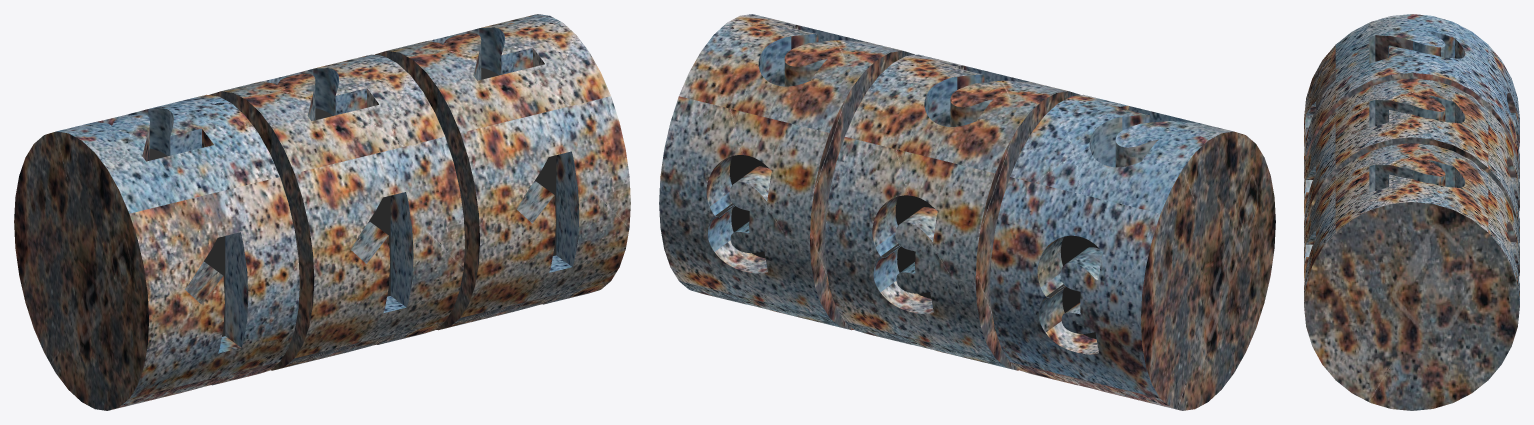
Rendered from safe.glb.
3 views of the same model, side by side, from view 1: azimuth 30°, elevation 25°; view 2: azimuth 150°, elevation 25°; view 3: azimuth 270°, elevation 25° (orthographic). The views are drawn at different scales.
Parts seen in each view (by area): view 1: roll1, roll3, roll2; view 2: roll1, roll3, roll2; view 3: roll3, roll2, roll1.
Part boxes in pixels (<box>): roll1: <box>14,94,299,410</box>; roll3: <box>375,14,630,330</box>; roll2: <box>209,54,464,370</box>; roll1: <box>990,94,1275,410</box>; roll3: <box>659,14,914,330</box>; roll2: <box>825,54,1080,370</box>; roll3: <box>1304,143,1519,410</box>; roll2: <box>1304,78,1519,242</box>; roll1: <box>1304,14,1519,178</box>.
Size of the model in its own units: 1.08 by 0.5597 by 0.5239.
2 materials, 1 textured.
